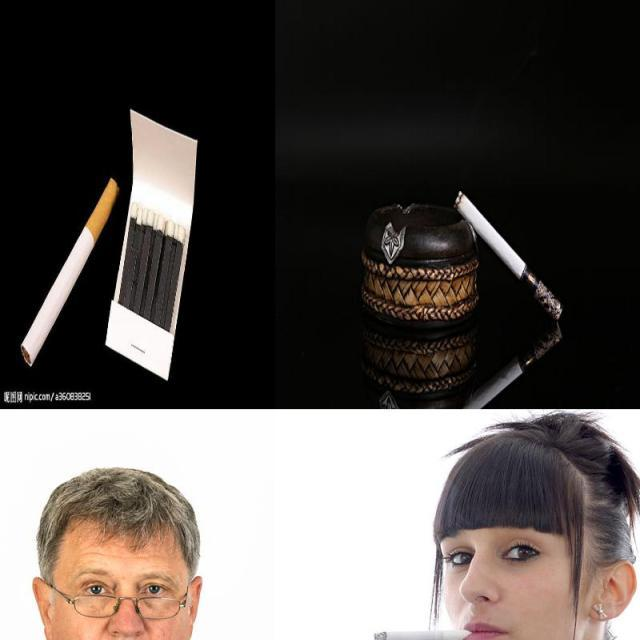smoking: (20, 179, 120, 367), (453, 190, 564, 322), (462, 322, 564, 408), (374, 628, 476, 640)
